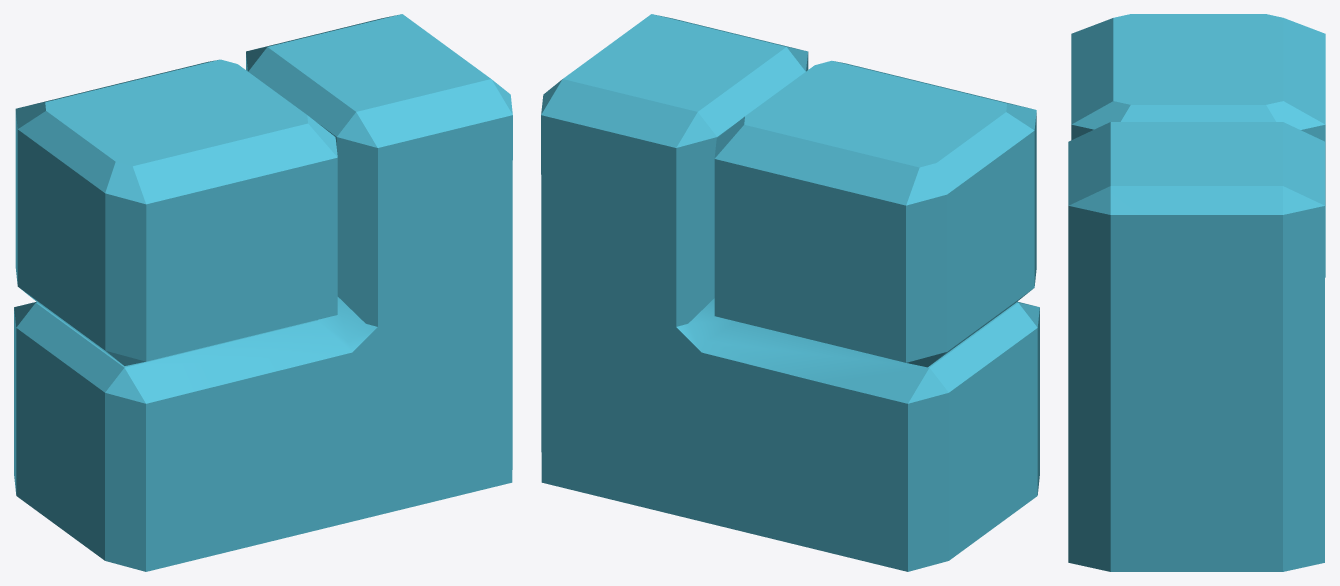
The model's file is OneBigBrickAndASmallBrick_alpha.FBX.
The picture shows the model from 3 angles, left to right: view 1: azimuth 30°, elevation 25°; view 2: azimuth 150°, elevation 25°; view 3: azimuth 270°, elevation 25°; orthographic projection. The views are drawn at different scales.
Parts seen in each view (by area): view 1: BlueBox; view 2: BlueBox; view 3: BlueBox.
Part boxes in pixels (x1,y1,x2,y2): BlueBox: (14, 14, 512, 571); BlueBox: (541, 14, 1039, 571); BlueBox: (1068, 14, 1325, 571).
Bounding box in the file's own units: 41.1 × 37.53 × 23.19.
